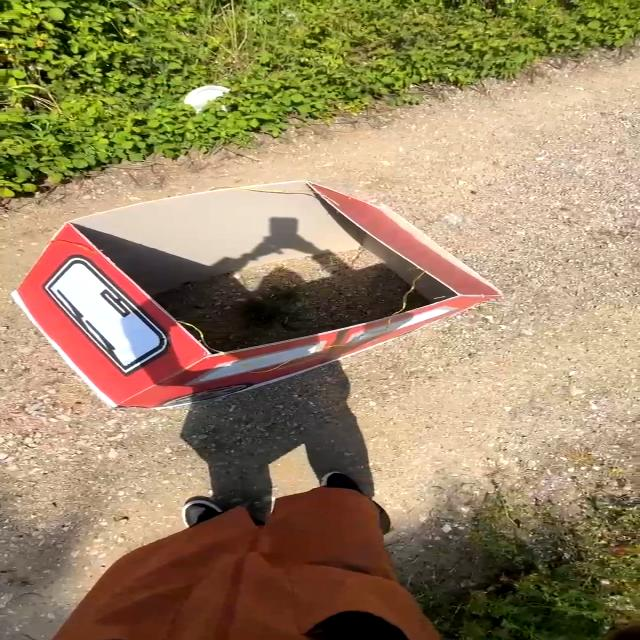red_car: (0, 171, 524, 432)
